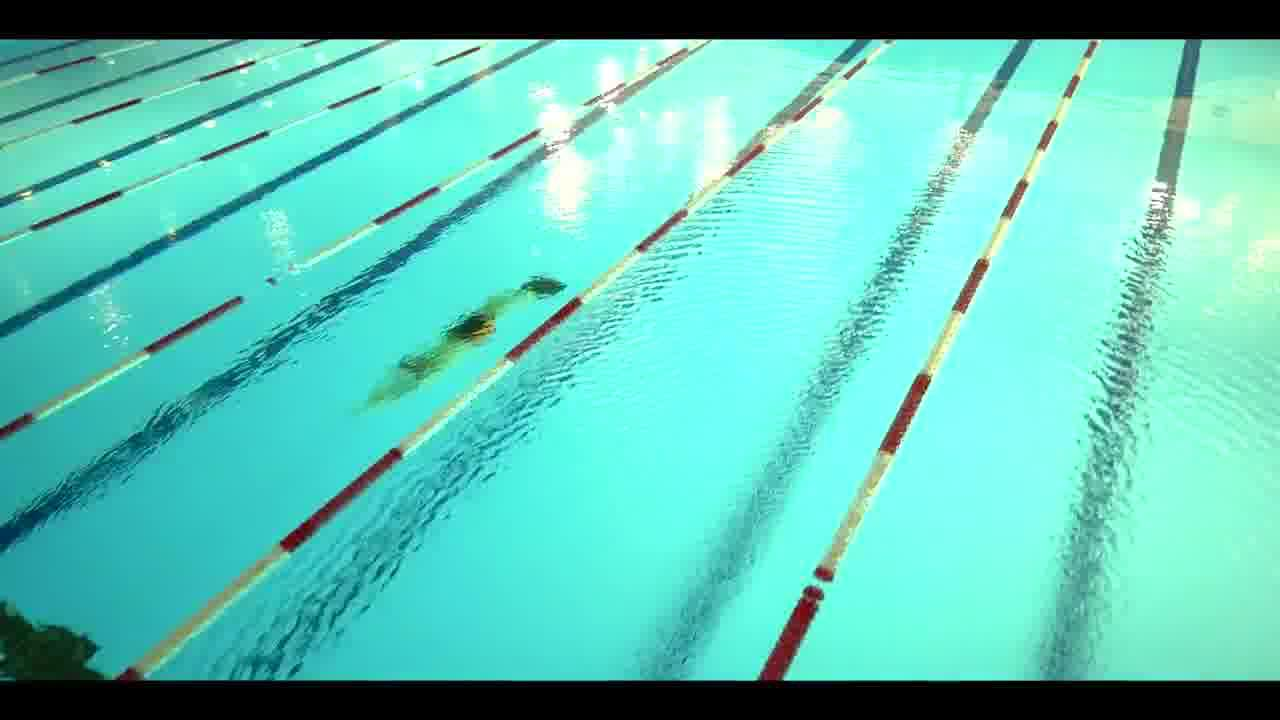human: (342, 293, 493, 404)
